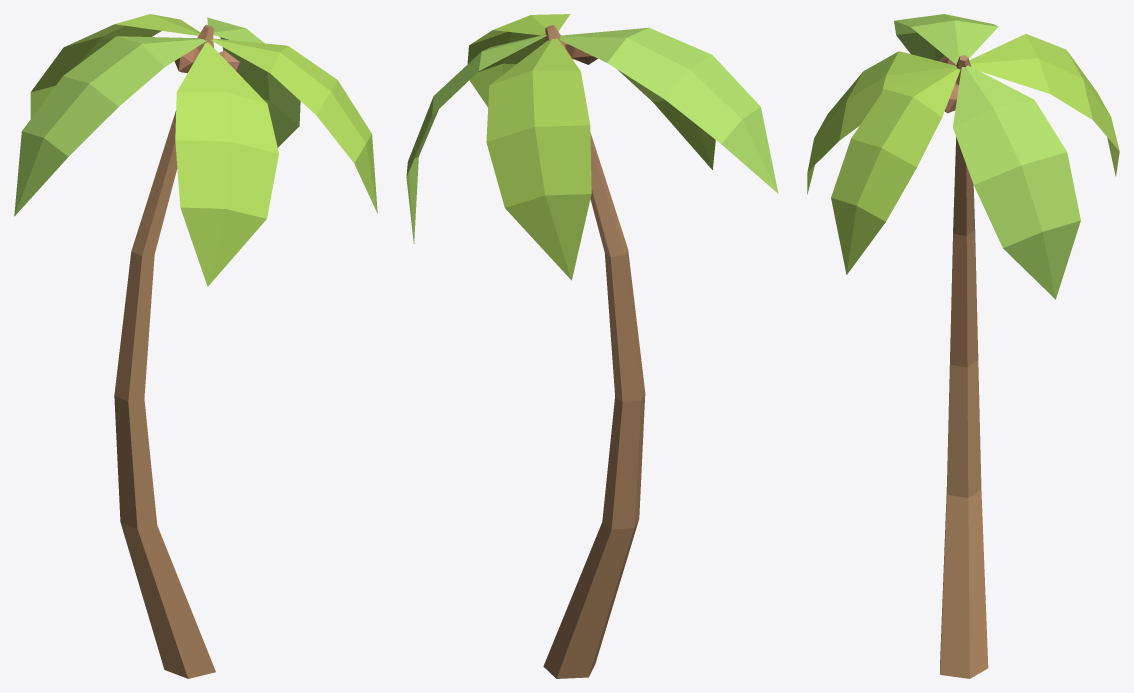
The model's file is Palm_Tree_Coconut_s_03_LOD.fbx.
The picture shows the model from 3 angles, left to right: view 1: azimuth 30°, elevation 25°; view 2: azimuth 150°, elevation 25°; view 3: azimuth 270°, elevation 25°; orthographic projection. The views are drawn at different scales.
Parts seen in each view (by area): view 1: Palm_Tree_Coconut_s_03_LOD0; view 2: Palm_Tree_Coconut_s_03_LOD0; view 3: Palm_Tree_Coconut_s_03_LOD0.
Boxes of the visible parts, x1,y1,x2,y2 form: Palm_Tree_Coconut_s_03_LOD0: (14,14,377,678); Palm_Tree_Coconut_s_03_LOD0: (406,14,778,678); Palm_Tree_Coconut_s_03_LOD0: (807,14,1119,678).
Size of what is drawn, in the model's own units: 236 by 431 by 196.
